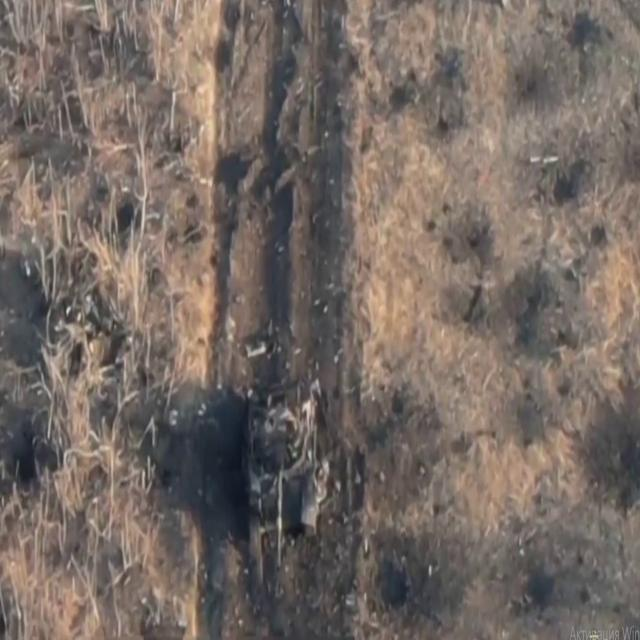MBT: (249, 376, 325, 563)
